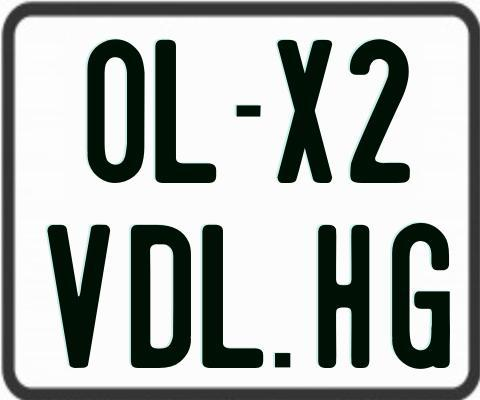0: (84, 37, 148, 181)
2: (349, 39, 410, 189)
D: (130, 222, 193, 370)
G: (390, 223, 449, 371)
H: (316, 223, 369, 367)
L: (153, 39, 218, 182), (202, 222, 264, 367)
V: (44, 222, 112, 365)
X: (277, 40, 335, 186)
